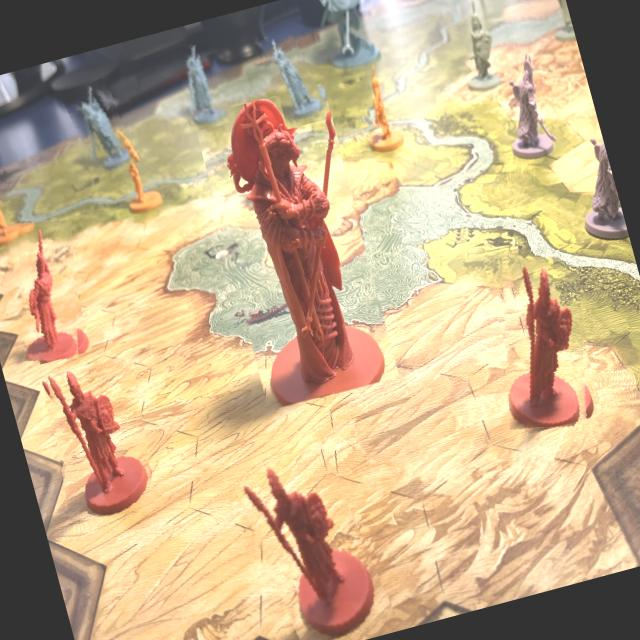amon: (191, 82, 400, 410)
amon_follower: (234, 438, 391, 640), (476, 244, 612, 439), (35, 354, 167, 526), (0, 213, 99, 367)
isis_follower: (63, 76, 138, 181), (256, 25, 328, 131), (170, 39, 229, 132)
